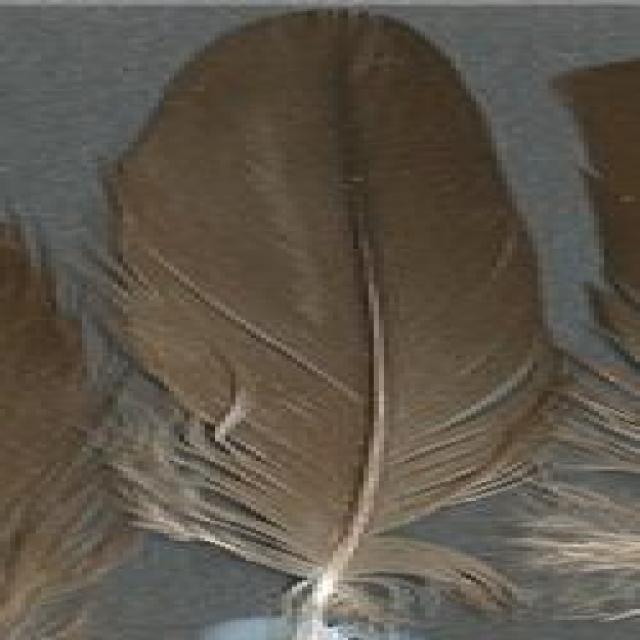feather: (84, 6, 571, 640)
